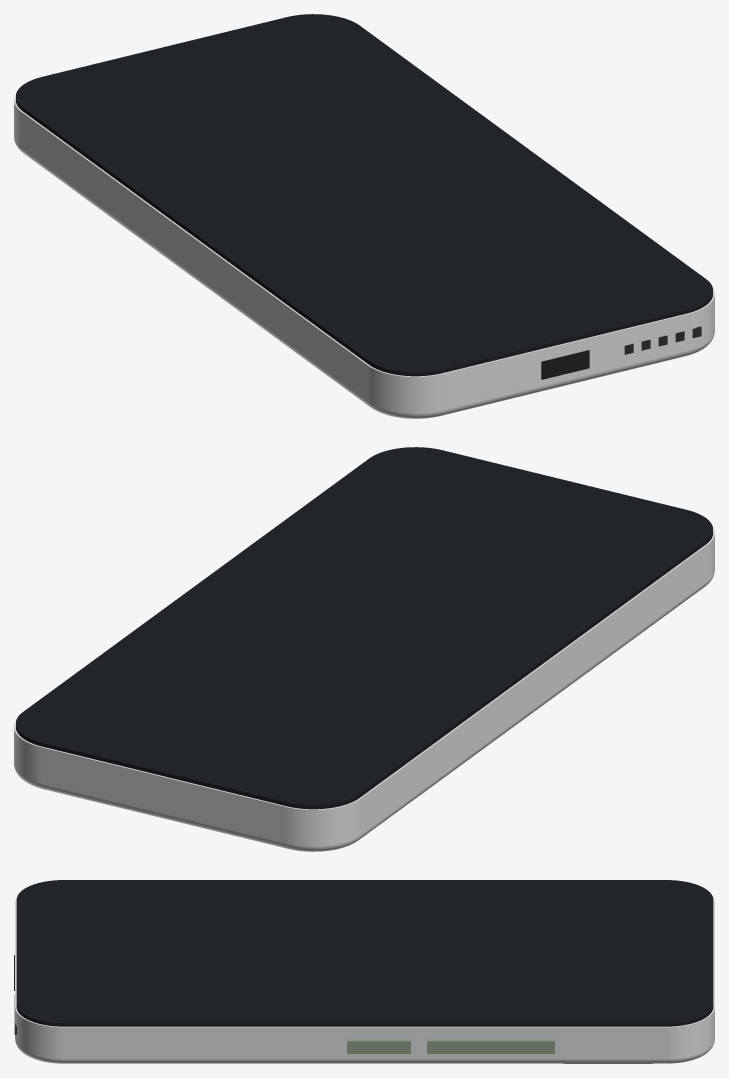
The picture shows the model from 3 angles, top to bottom: view 1: azimuth 30°, elevation 25°; view 2: azimuth 150°, elevation 25°; view 3: azimuth 270°, elevation 25°; orthographic projection. The views are drawn at different scales.
Visible parts, largest first — view 1: glass.1, metal.1, port.1; view 2: glass.1, metal.1; view 3: glass.1, metal.1, button.1, button.2.
Boxes of the visible parts, x1,y1,x2,y2 form: glass.1: [16, 14, 712, 376]; metal.1: [14, 94, 714, 418]; port.1: [541, 350, 589, 379]; glass.1: [16, 447, 712, 809]; metal.1: [14, 527, 714, 851]; glass.1: [16, 880, 713, 1026]; metal.1: [15, 898, 714, 1063]; button.1: [427, 1039, 554, 1053]; button.2: [347, 1039, 410, 1053].
Size of the model in its own units: 0.0651 by 0.0114 by 0.1312.
